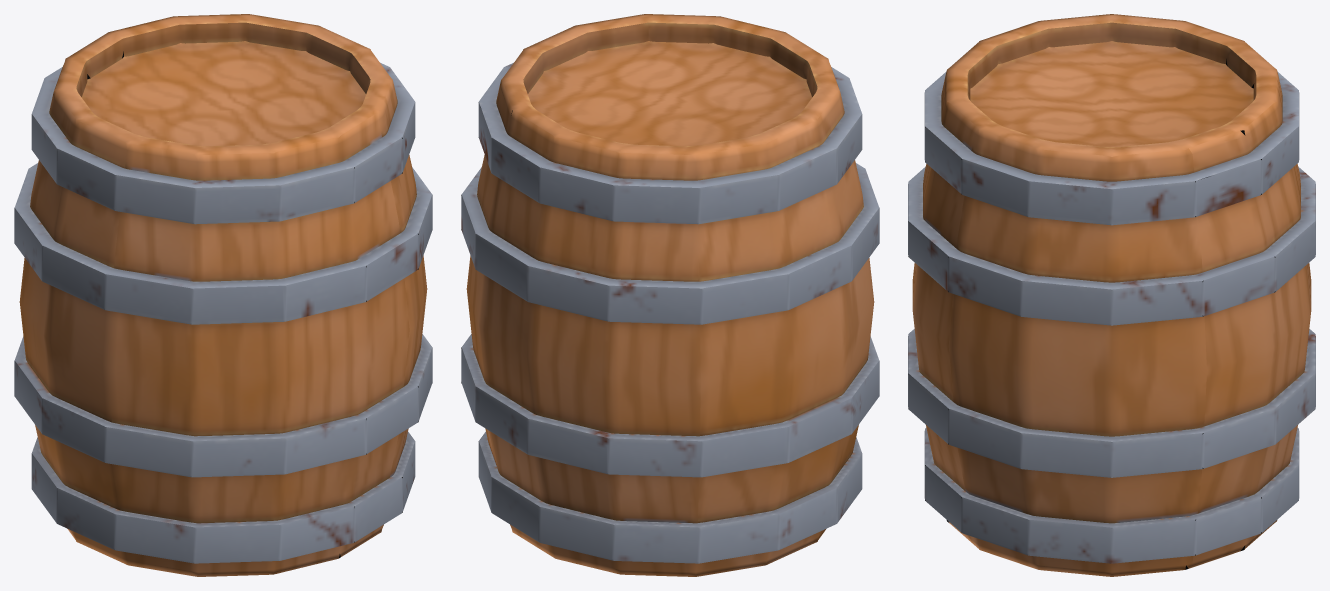
Rendered from Tonneau.fbx.
3 renders of one model, left to right at view 1: azimuth 30°, elevation 25°; view 2: azimuth 150°, elevation 25°; view 3: azimuth 270°, elevation 25°, orthographic.
Visible parts, largest first — view 1: Tonneau; view 2: Tonneau; view 3: Tonneau.
Part boxes in pixels (x1=…): Tonneau: x1=14, y1=14, x2=432, y2=576; Tonneau: x1=461, y1=14, x2=879, y2=576; Tonneau: x1=908, y1=14, x2=1315, y2=576.
Bounding box in the file's own units: 412 × 460 × 402.
Materials: 1 (1 with a texture image).
